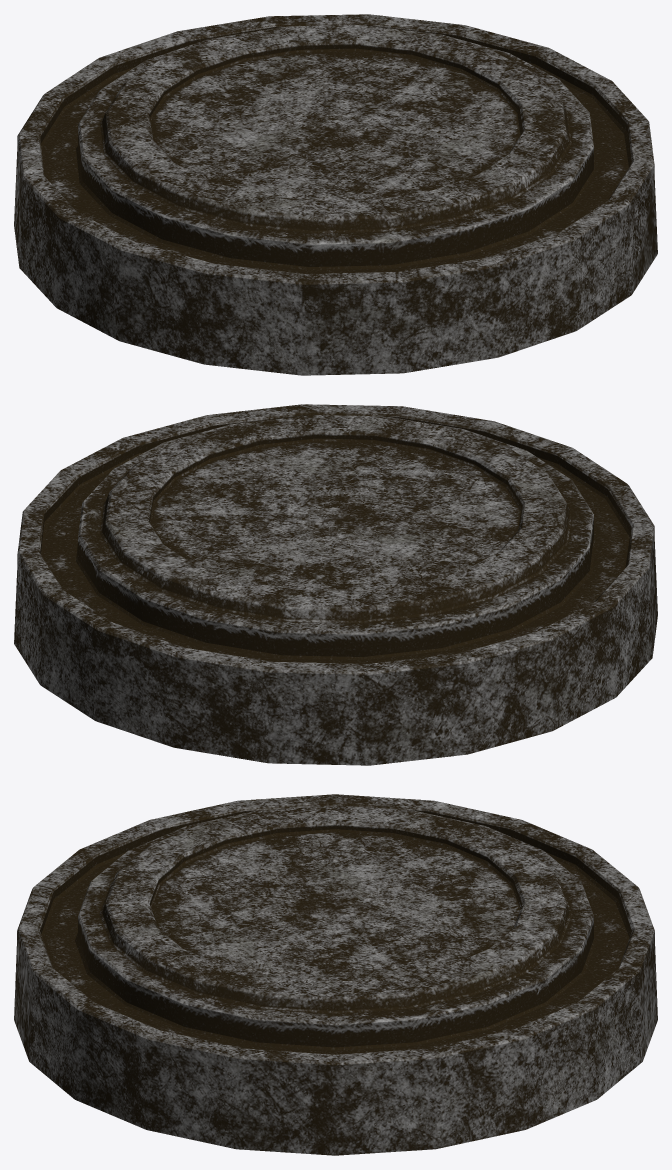
File: base_altar.glb
3 views of the same model, one above another, from view 1: azimuth 30°, elevation 25°; view 2: azimuth 150°, elevation 25°; view 3: azimuth 270°, elevation 25° (orthographic).
Visible parts, largest first — view 1: altar; view 2: altar; view 3: altar.
Part boxes in pixels (x1,y1,x2,y2): altar: [14, 14, 657, 375]; altar: [14, 404, 657, 765]; altar: [14, 794, 657, 1155].
Size of the model in its own units: 5.87 by 1.19 by 5.87.
Materials: 1 (1 with a texture image).
